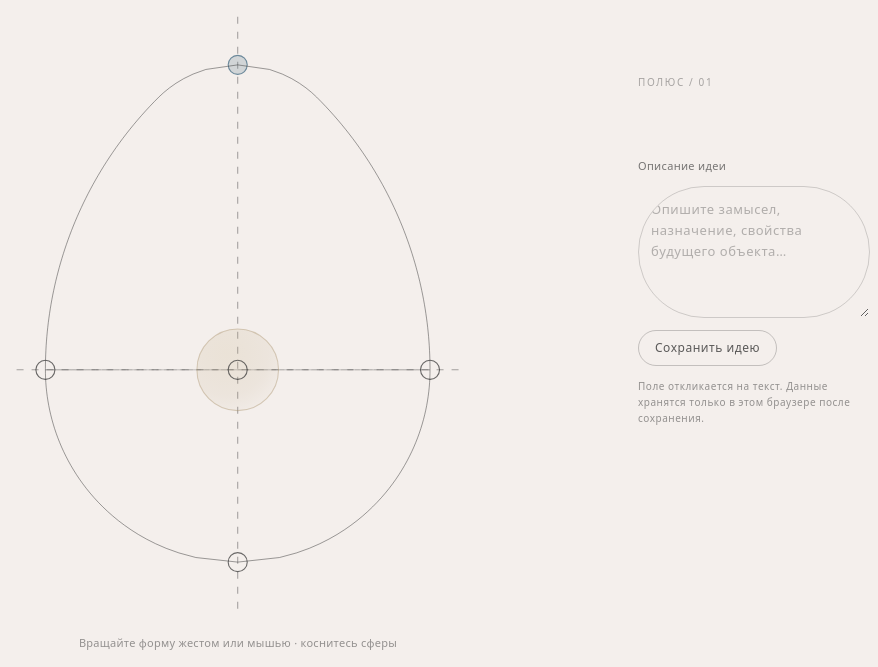
Test: UNOcalc egg-only geometry › lets the Idea pole edit a local idea and previews a changing field without deforming the core
Earlier steps of the test are not shown.
Later steps or results of the test are not shown.
Type "Кресло для чтения из гибких материалов" into the text box labelled "Описание идеи".
click(754, 252); type("Кресло для чтения из гибких материалов")  # box [638,186,870,318]
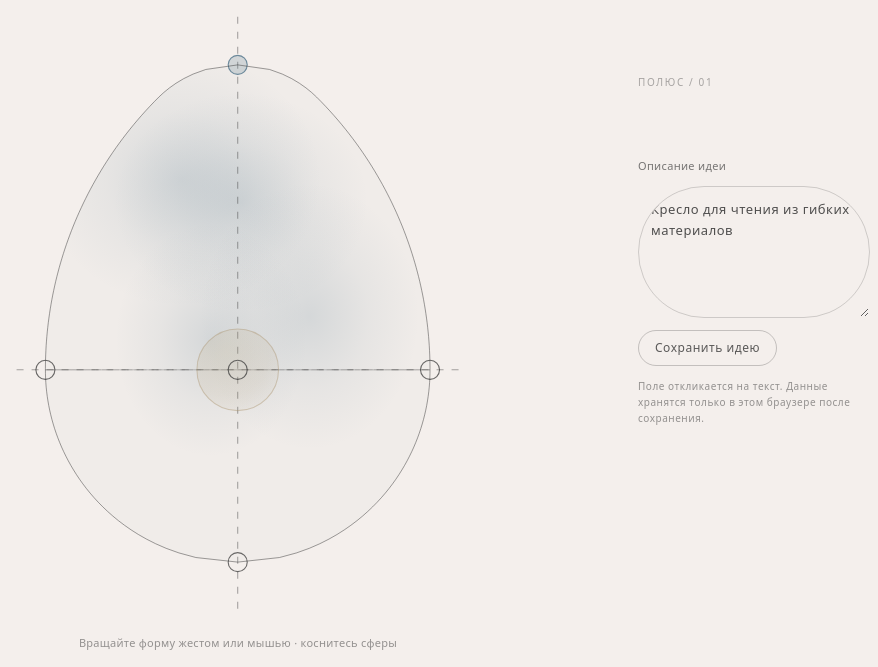
Replace the text in the text box labelled "Описание идеи" with "Светильник для чтения из гибких материалов" at (754, 252), box [638,186,870,318]
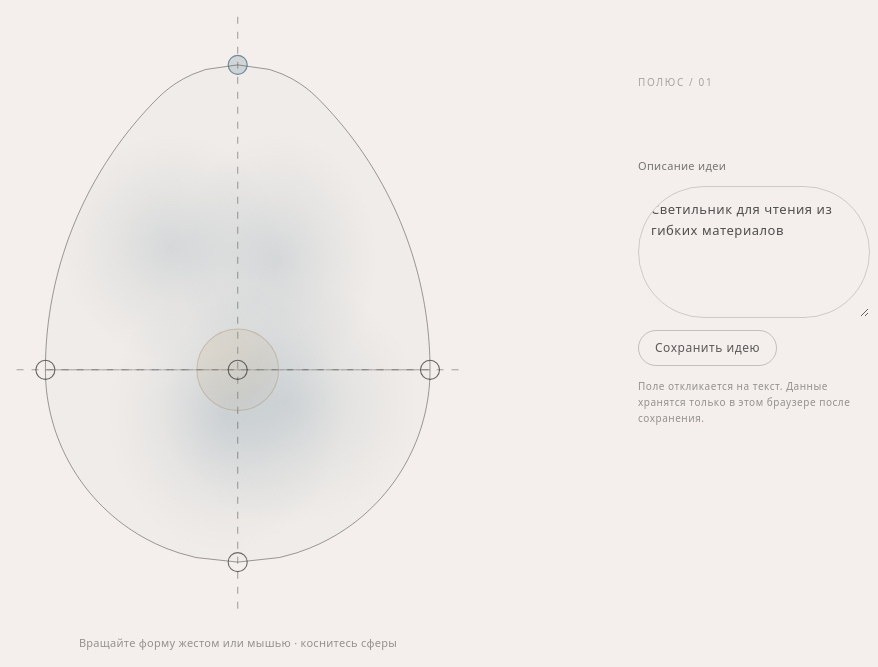
Click the button "Сохранить идею".
click(708, 348)  # box [638,330,777,366]
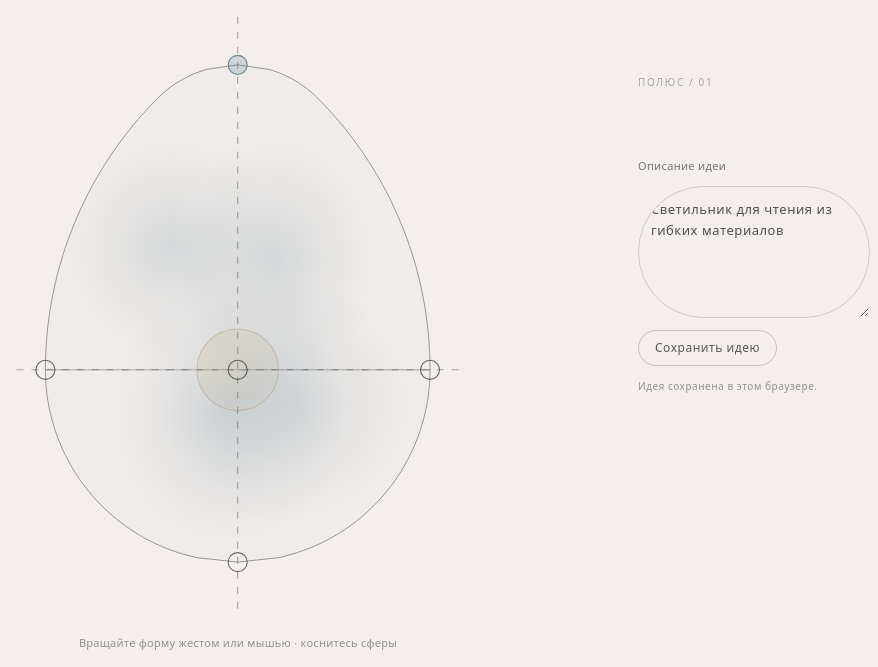
Check: the message "Идея сохранена в этом браузере." is shown, box [638,379,818,393]
